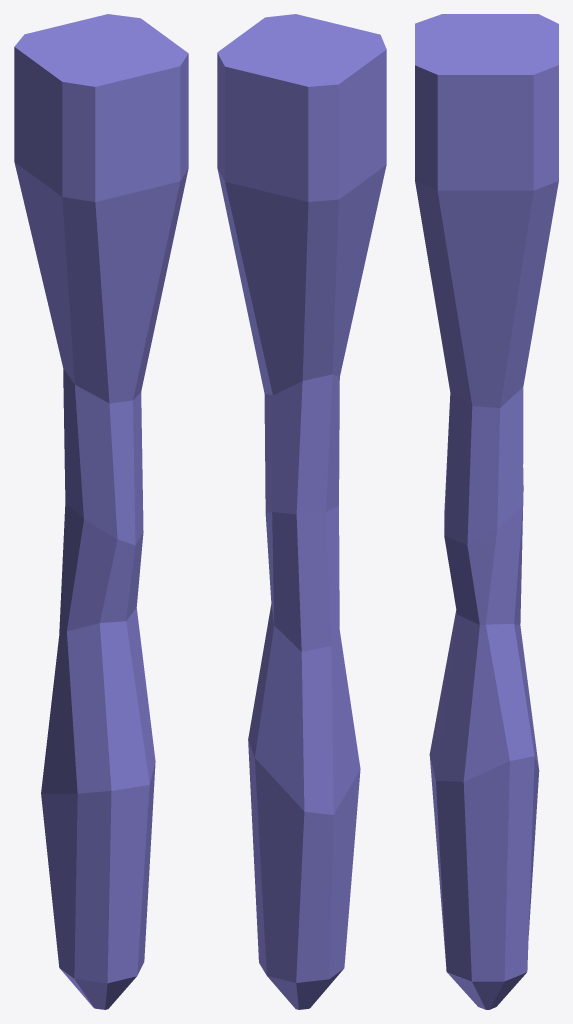
The model's file is stalactite.glb.
3 views of the same model, side by side, from view 1: azimuth 30°, elevation 25°; view 2: azimuth 150°, elevation 25°; view 3: azimuth 270°, elevation 25° (orthographic).
Parts seen in each view (by area): view 1: Cube, Cube.001; view 2: Cube, Cube.001; view 3: Cube, Cube.001.
Part boxes in pixels (box(x1,y1,x2,y2)): Cube: box(14, 162, 188, 1009); Cube.001: box(14, 14, 188, 201); Cube: box(217, 165, 386, 1009); Cube.001: box(217, 14, 386, 201); Cube: box(415, 181, 558, 1009); Cube.001: box(415, 14, 558, 190).
Size of the model in its own units: 0.3245 by 2.39 by 0.3245.
